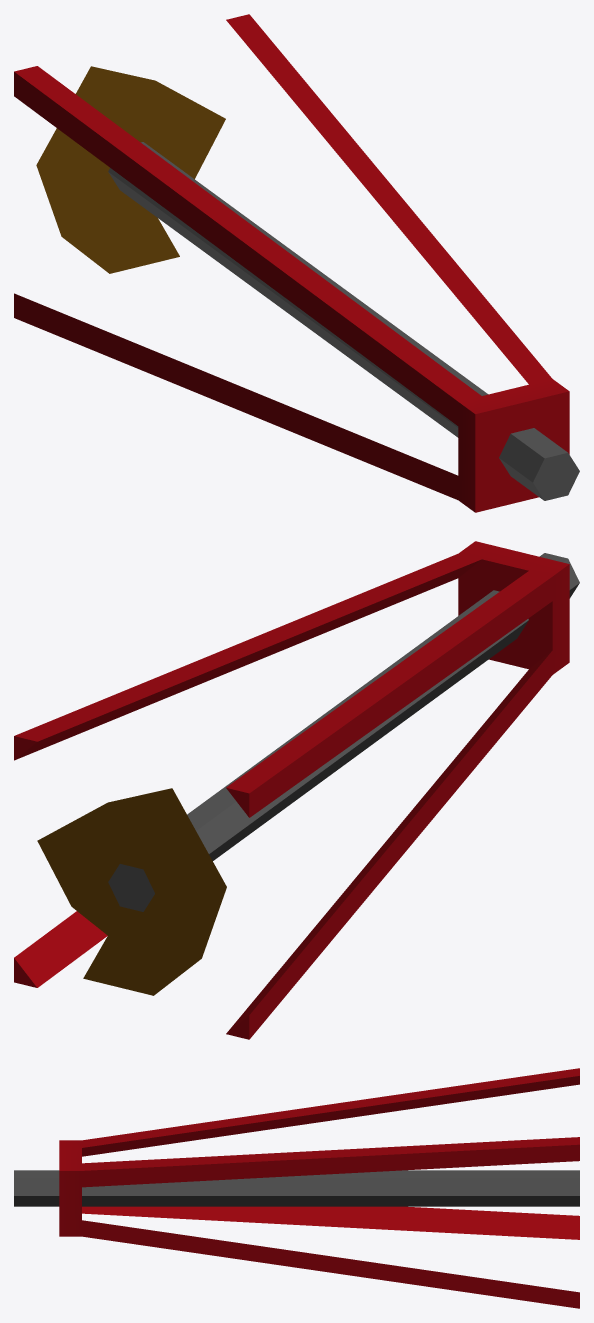
Rendered from oil_rig_2.dae.
3 views of the same model, one above another, from view 1: azimuth 30°, elevation 25°; view 2: azimuth 150°, elevation 25°; view 3: azimuth 270°, elevation 25° (orthographic). The views are drawn at different scales.
Parts seen in each view (by area): view 1: coords_ME_ID3_MA_material_7, coords_ME_ID25_MA_material_2, coords_ME_ID19_MA_material, coords_ME_ID11_MA_material; view 2: coords_ME_ID3_MA_material_7, coords_ME_ID25_MA_material_2, coords_ME_ID19_MA_material; view 3: coords_ME_ID3_MA_material_7, coords_ME_ID19_MA_material, coords_ME_ID11_MA_material.
Part boxes in pixels (x1=…): coords_ME_ID3_MA_material_7: x1=14, y1=14, x2=569, y2=512; coords_ME_ID25_MA_material_2: x1=36, y1=66, x2=225, y2=273; coords_ME_ID19_MA_material: x1=108, y1=142, x2=488, y2=437; coords_ME_ID11_MA_material: x1=499, y1=428, x2=579, y2=500; coords_ME_ID3_MA_material_7: x1=14, y1=541, x2=569, y2=1039; coords_ME_ID25_MA_material_2: x1=37, y1=788, x2=226, y2=995; coords_ME_ID19_MA_material: x1=108, y1=590, x2=528, y2=911; coords_ME_ID3_MA_material_7: x1=59, y1=1068, x2=579, y2=1308; coords_ME_ID19_MA_material: x1=82, y1=1170, x2=579, y2=1206; coords_ME_ID11_MA_material: x1=14, y1=1170, x2=59, y2=1206.
Bounding box in the file's own units: 78.74 × 78.74 × 246.
